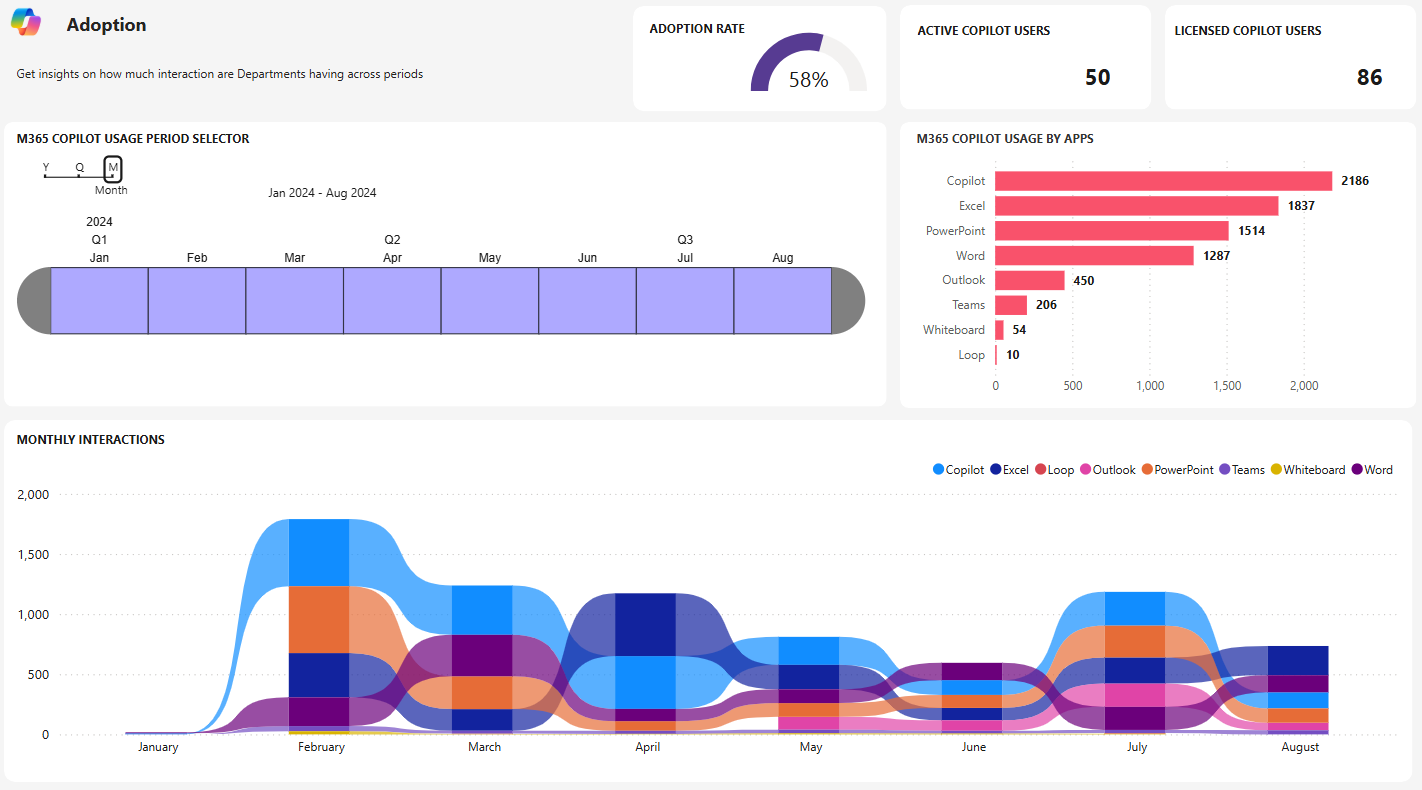

What the dashboard file says about the page in this screenshot:
{"tool":"powerbi","page":{"name":"Adoption","canvas":[1280,720],"ordinal":6},"visuals":[{"type":"shape","box":[809,15.6,224,93.4],"z":0,"group":"g1"},{"type":"shape","box":[1044.8,15.6,224,93.4],"z":0,"group":"g2"},{"type":"shape","box":[808.9,119,460.3,254.9],"z":0},{"type":"shape","box":[570.8,15.8,226,93.7],"z":1000},{"type":"textbox","box":[581.4,21,203.3,32.6],"z":2000},{"type":"group","id":"g1","title":"Group 1","box":[809,15.6,224,93.4],"z":3000},{"type":"group","id":"g2","title":"Group 1","box":[1044.8,15.6,224,93.4],"z":4000},{"type":"shape","box":[10.3,384.6,1255.2,322.5],"z":5000},{"type":"ribbonChart","title":"MONTHLY INTERACTIONS","fields":{"Y":["CountNonNull(Copilot.TimeStamp)"],"Series":["Copilot.APPLICATION"],"Category":["Copilot.TimeStamp.Variation.Date Hierarchy.Year","Copilot.TimeStamp.Variation.Date Hierarchy.Month"]},"box":[16.9,394.9,1241.1,299],"z":6000},{"type":"shape","box":[10.6,119.7,786.5,253.6],"z":7000},{"type":"gauge","fields":{"Y":["Users.Adoption percentage"],"TargetValue":["CountNonNull(Users.UserPrincipalName)"]},"box":[670.9,23.2,113.7,85.3],"z":8000},{"type":"Timeline1447991079100","title":"M365 COPILOT USAGE PERIOD SELECTOR","fields":{"Time":["Copilot.TimeStamp"]},"box":[16.8,126.8,767.9,233.2],"z":9000},{"type":"clusteredBarChart","title":"M365 COPILOT USAGE BY APPS ","fields":{"Category":["Copilot.APPLICATION"],"Y":["CountNonNull(Copilot.User)"]},"box":[819,126.9,426.9,246.3],"z":10000},{"type":"textbox","box":[819.4,23,187.9,30],"z":11000},{"type":"textbox","box":[1049,23.3,196.5,29.3],"z":12000},{"type":"card","fields":{"Values":["Count(Copilot.User)"]},"box":[955.3,63,60,35],"z":13000},{"type":"card","fields":{"Values":["CountNonNull(Users.HasCopilotLicense)"]},"box":[1198.1,62,60,37],"z":14000},{"type":"image","box":[10.8,10.8,39.5,39.5],"z":15000},{"type":"textbox","box":[61.8,21,97.7,22.3],"z":16000},{"type":"textbox","box":[16.7,61.8,509.5,31.7],"z":17000}]}

Visuals, with their boxes in screenshot pixels (x1, y1, x2, y2), scaled from the page's 1280x720 canvas onto the 1422x790 screenshot:
shape: (899, 17, 1148, 120)
shape: (1161, 17, 1410, 120)
shape: (899, 131, 1410, 410)
shape: (634, 17, 885, 120)
textbox: (646, 23, 872, 59)
"Group 1" group: (899, 17, 1148, 120)
"Group 1" group: (1161, 17, 1410, 120)
shape: (11, 422, 1406, 776)
"MONTHLY INTERACTIONS" ribbonChart: (19, 433, 1398, 761)
shape: (12, 131, 886, 410)
gauge - Users.Adoption percentage x CountNonNull(Users.UserPrincipalName): (745, 25, 872, 119)
"M365 COPILOT USAGE PERIOD SELECTOR" Timeline1447991079100: (19, 139, 872, 395)
"M365 COPILOT USAGE BY APPS " clusteredBarChart: (910, 139, 1384, 409)
textbox: (910, 25, 1119, 58)
textbox: (1165, 26, 1384, 58)
card - Count(Copilot.User): (1061, 69, 1128, 108)
card - CountNonNull(Users.HasCopilotLicense): (1331, 68, 1398, 109)
image: (12, 12, 56, 55)
textbox: (69, 23, 177, 48)
textbox: (19, 68, 585, 103)
